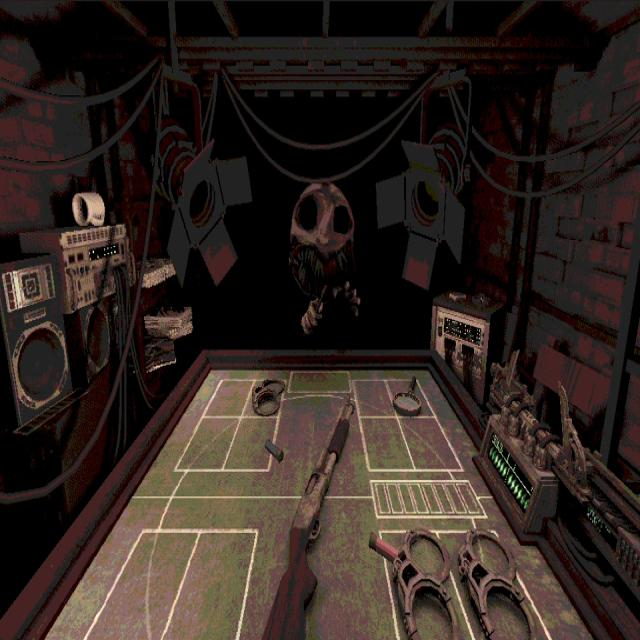ally: (45, 496, 603, 640)
emptyspace: (82, 528, 198, 639), (158, 528, 257, 639), (174, 414, 240, 472), (399, 417, 459, 470), (222, 416, 279, 470), (360, 419, 416, 471), (202, 377, 254, 418), (354, 377, 396, 419)
enemyspace: (131, 367, 484, 489)
gun: (262, 399, 353, 639)
handcuff: (457, 529, 535, 638), (393, 529, 459, 639), (251, 378, 287, 414)
lens: (392, 375, 421, 416)
